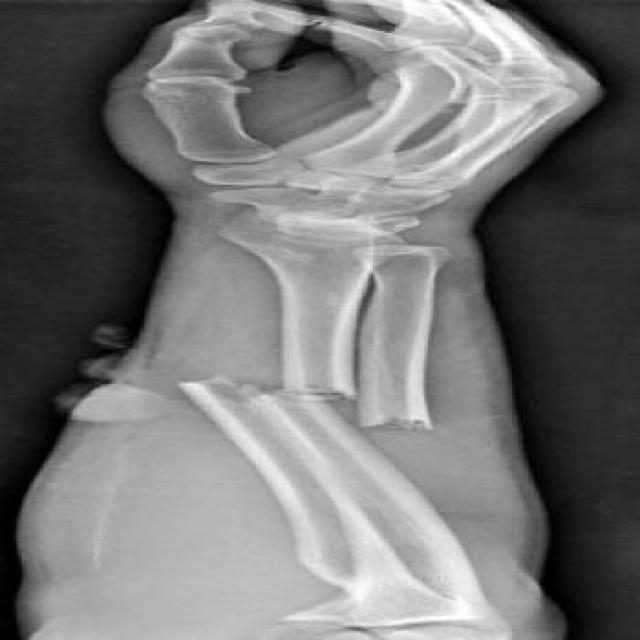Fracture: (164, 373, 454, 435)
